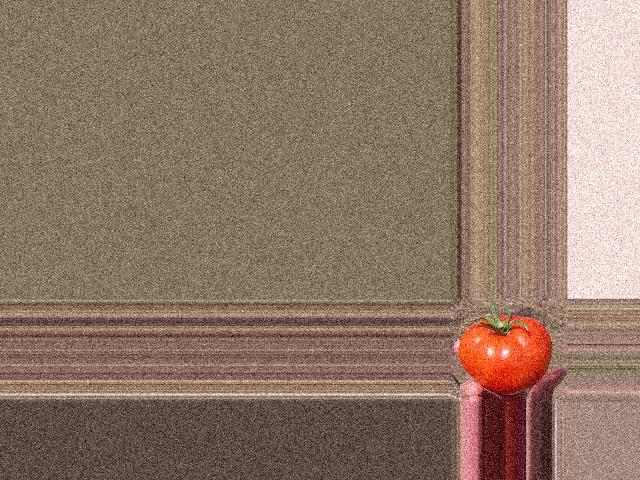tomato: (458, 315, 551, 394)
